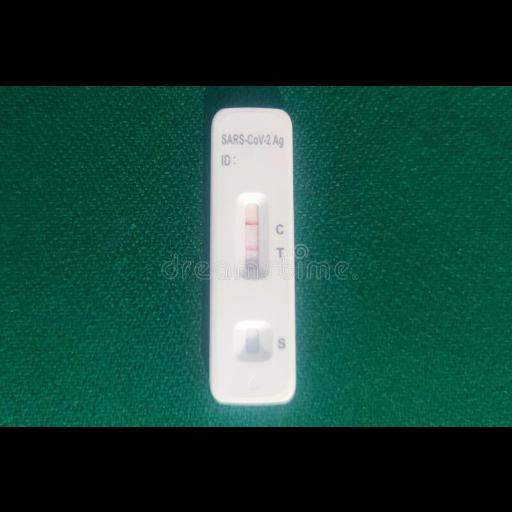Pos: (209, 108, 295, 402)
